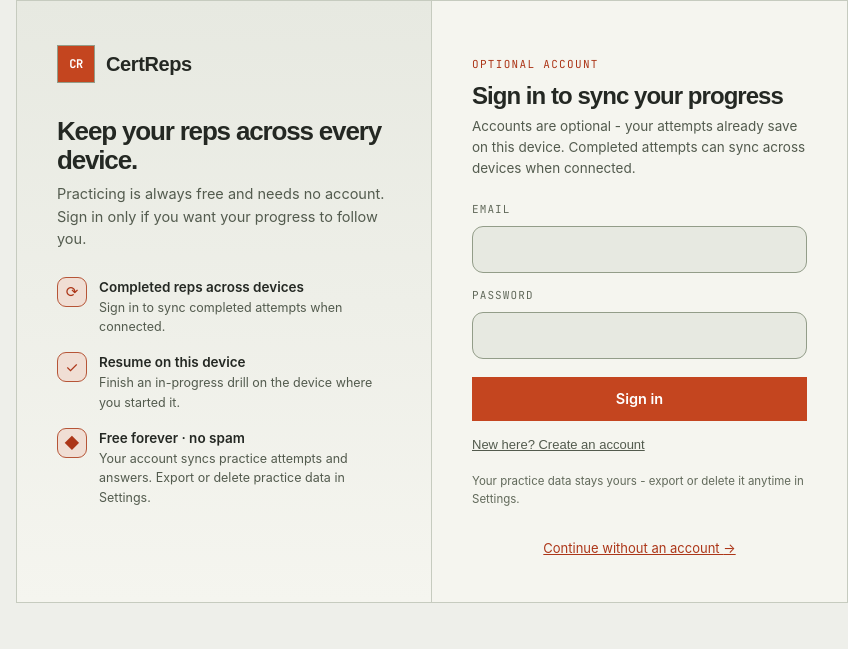
Test: login recovery and accurate sync copy › recovers from a rejected signin request
Type "ada@example.com" into the field labelled "Email" at (640, 249), box [472,226,807,273]
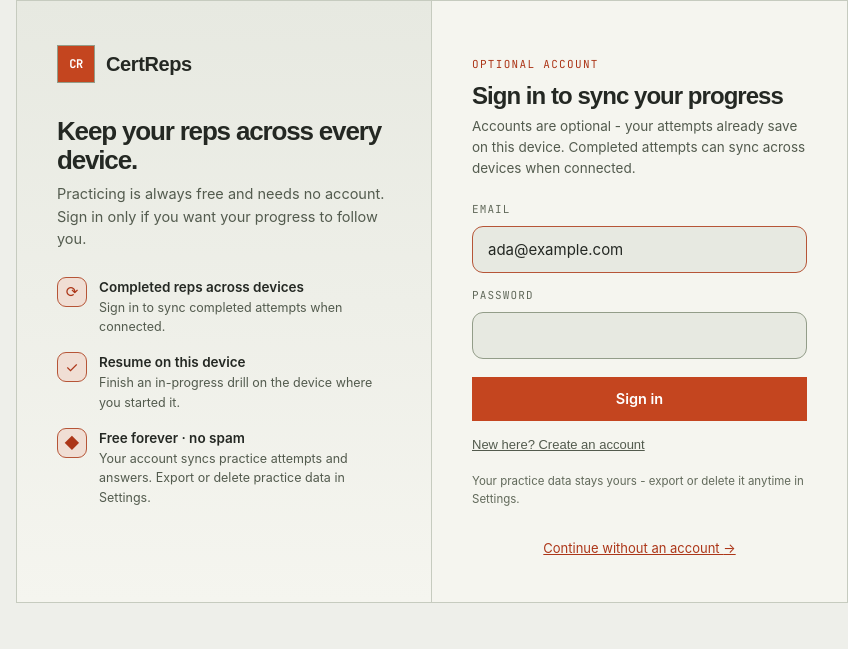
Type "Test12345!" into the password field labelled "Password" at (640, 335), box [472,312,807,359]
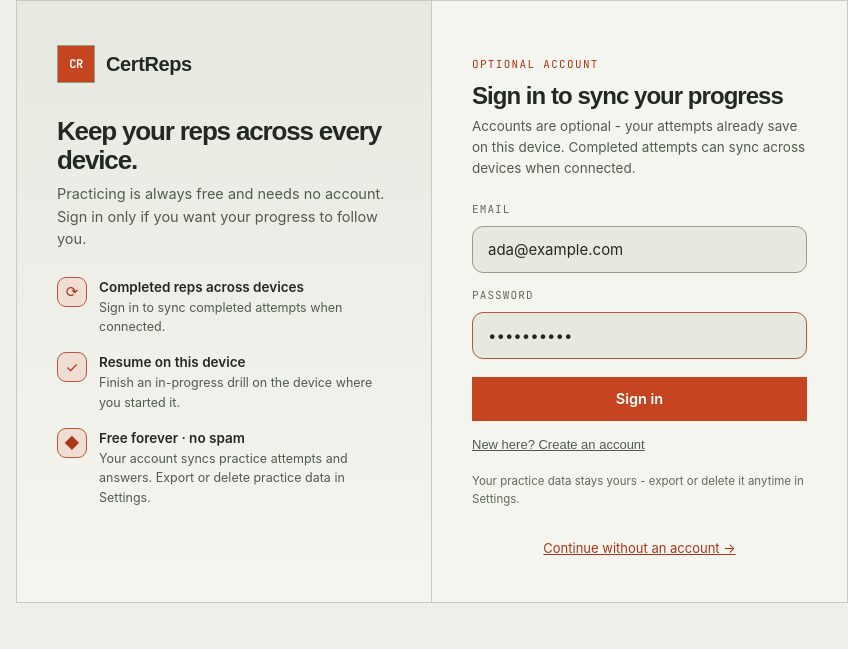
Click the button "Sign in" at (640, 399), box [472,377,807,421]
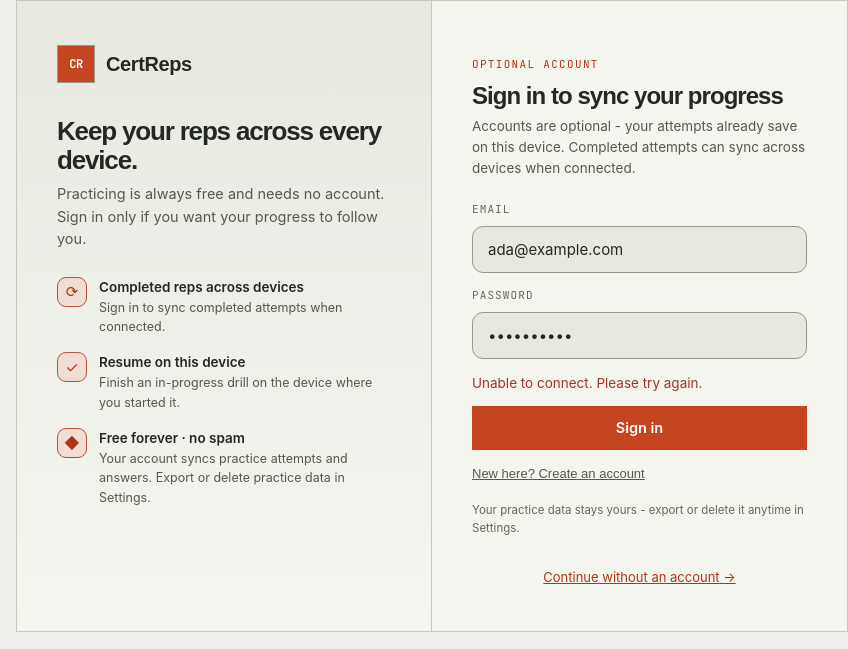
expect the button "Sign in" is enabled: met, box [472,406,807,450]
expect the text "Unable to connect. Please try again." is shown: met, box [472,375,702,391]
